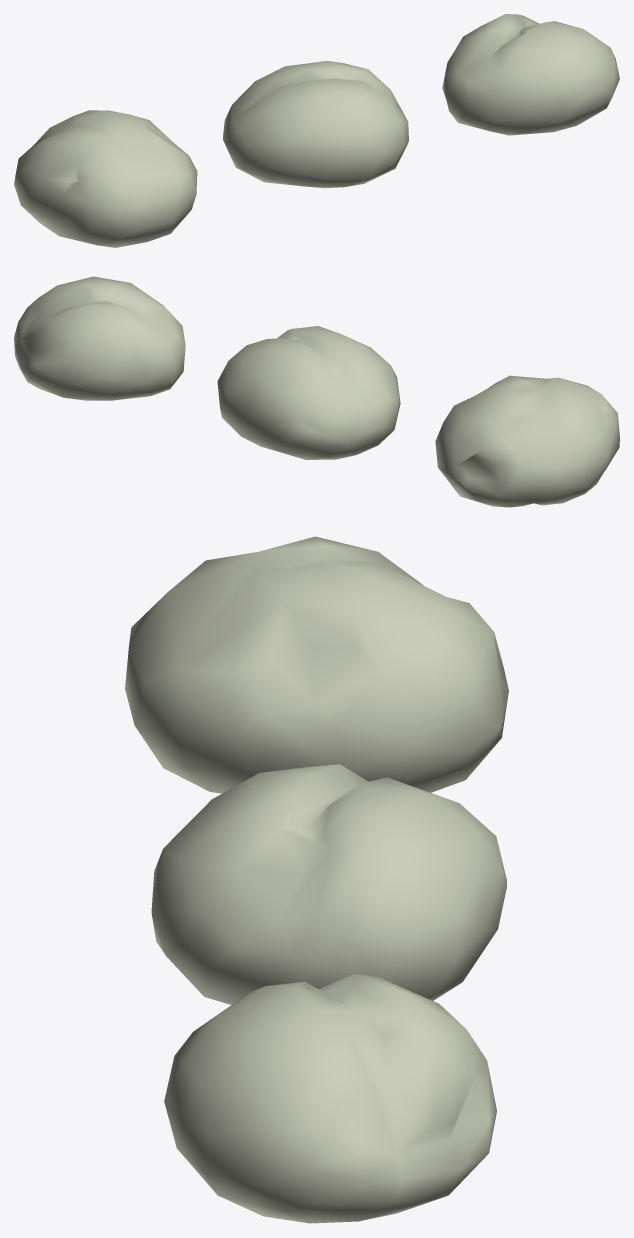
Rendered from MoldyBread.fbx.
The picture shows the model from 3 angles, top to bottom: view 1: azimuth 30°, elevation 25°; view 2: azimuth 150°, elevation 25°; view 3: azimuth 270°, elevation 25°; orthographic projection. The views are drawn at different scales.
Parts seen in each view (by area): view 1: hamburger_buns_01, hamburger_buns_02, hamburger_buns_03; view 2: hamburger_buns_01, hamburger_buns_02, hamburger_buns_03; view 3: hamburger_buns_01, hamburger_buns_02, hamburger_buns_03.
Part boxes in pixels (x1=…): hamburger_buns_01: x1=14, y1=110, x2=197, y2=247; hamburger_buns_02: x1=223, y1=61, x2=408, y2=188; hamburger_buns_03: x1=442, y1=14, x2=619, y2=135; hamburger_buns_01: x1=435, y1=375, x2=619, y2=507; hamburger_buns_02: x1=217, y1=326, x2=400, y2=459; hamburger_buns_03: x1=14, y1=276, x2=185, y2=400; hamburger_buns_01: x1=125, y1=536, x2=508, y2=793; hamburger_buns_02: x1=151, y1=764, x2=506, y2=1004; hamburger_buns_03: x1=164, y1=973, x2=496, y2=1223.
Size of the model in its own units: 39.75 by 6.37 by 11.37.
